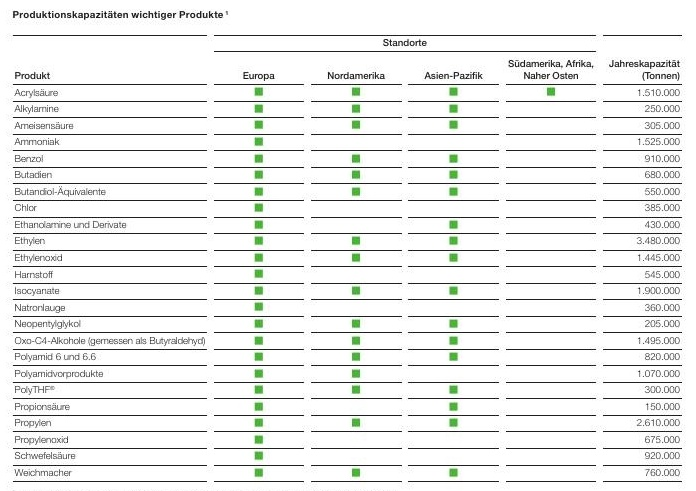table: (0, 0, 696, 491)
